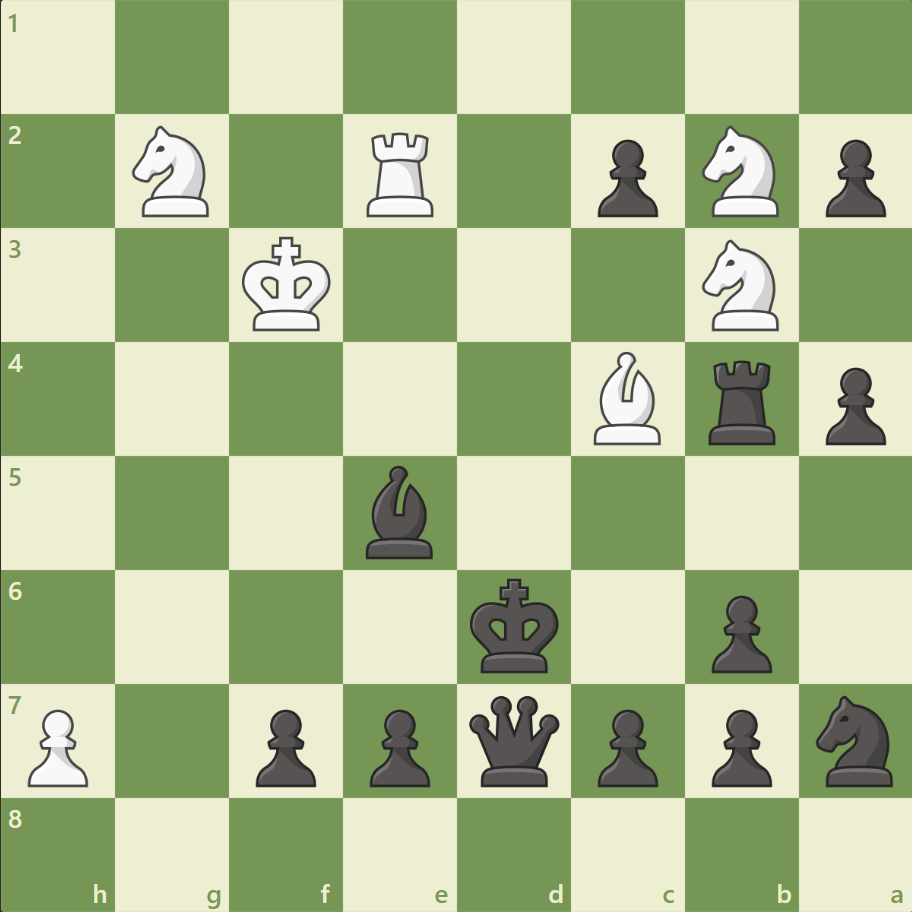B: (585, 347, 669, 449)
K: (238, 231, 338, 339)
N: (124, 121, 222, 223), (692, 234, 789, 337), (692, 121, 789, 223)
P: (20, 700, 95, 791)
R: (360, 125, 442, 222)
b: (358, 460, 442, 563)
k: (465, 571, 565, 679)
n: (806, 688, 903, 791)
p: (701, 700, 776, 791), (247, 700, 322, 791), (701, 586, 776, 677), (588, 700, 662, 791), (361, 700, 435, 791), (815, 359, 889, 450), (815, 132, 889, 223), (588, 132, 662, 223)
q: (464, 690, 563, 789)
r: (700, 352, 783, 449)
